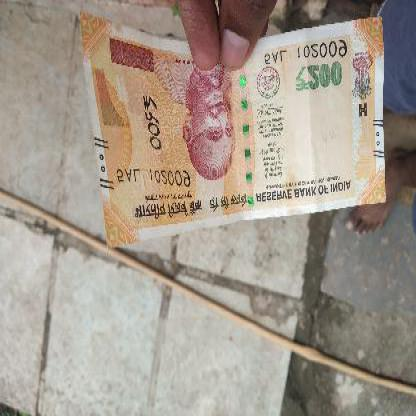New200Front: (90, 18, 388, 247)
